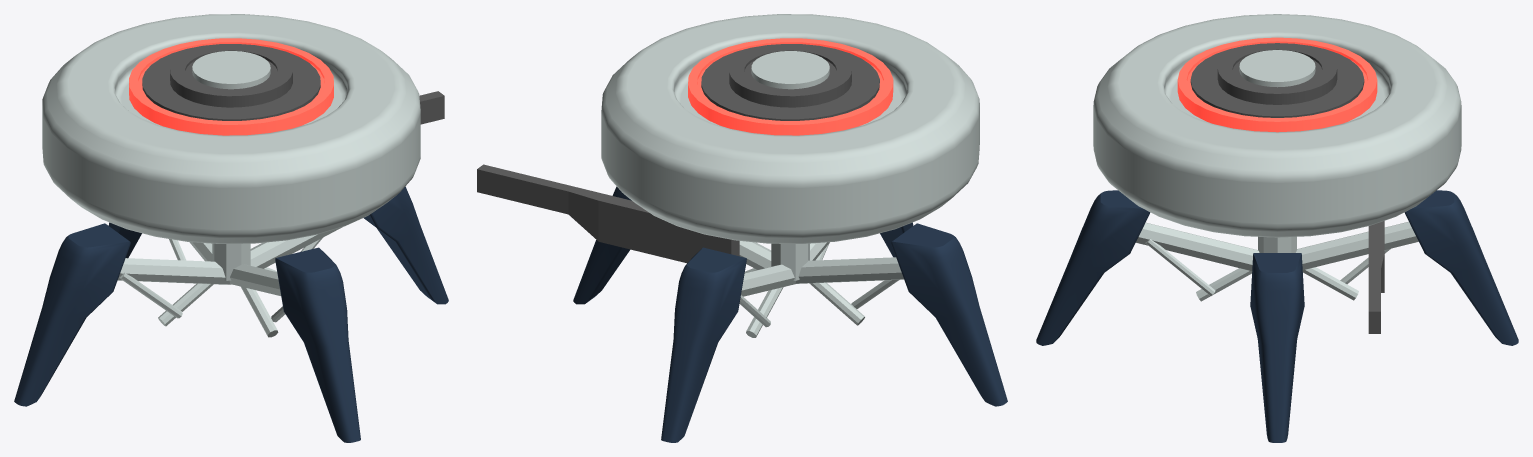
The model's file is M_DroneBot.fbx.
3 renders of one model, left to right at view 1: azimuth 30°, elevation 25°; view 2: azimuth 150°, elevation 25°; view 3: azimuth 270°, elevation 25°, orthographic. The views are drawn at different scales.
Visible parts, largest first — view 1: Cylinder, Cube.003, Cylinder.001, Cylinder.005, Cylinder.006, Cylinder.003, Cylinder.002, Cube.001, Cylinder.004; view 2: Cylinder, Cube.003, Cylinder.001, Cube.001, Cylinder.005, Cylinder.004, Cylinder.002, Cylinder.003; view 3: Cylinder, Cube.003, Cylinder.001, Cylinder.006, Cylinder.004, Cube.001, Cylinder.002.
Boxes of the visible parts, x1,y1,x2,y2 form: Cylinder: (42, 14, 420, 243); Cube.003: (14, 186, 448, 442); Cylinder.001: (129, 38, 333, 135); Cylinder.005: (117, 258, 231, 326); Cylinder.006: (229, 264, 285, 337); Cylinder.003: (250, 227, 342, 271); Cylinder.002: (212, 243, 250, 280); Cube.001: (419, 91, 444, 124); Cylinder.004: (169, 239, 212, 261); Cylinder: (601, 14, 979, 243); Cube.003: (573, 186, 1007, 442); Cylinder.001: (688, 38, 893, 135); Cube.001: (477, 164, 739, 263); Cylinder.005: (795, 257, 903, 325); Cylinder.004: (739, 264, 795, 337); Cylinder.002: (771, 243, 809, 280); Cylinder.003: (739, 241, 771, 272); Cylinder: (1093, 14, 1461, 237); Cube.003: (1036, 190, 1518, 442); Cylinder.001: (1177, 37, 1377, 132); Cylinder.006: (1136, 222, 1259, 301); Cylinder.004: (1296, 221, 1418, 300); Cube.001: (1368, 221, 1384, 333); Cylinder.002: (1258, 236, 1296, 252).
Bounding box in the file's own units: 290 × 166 × 262.
